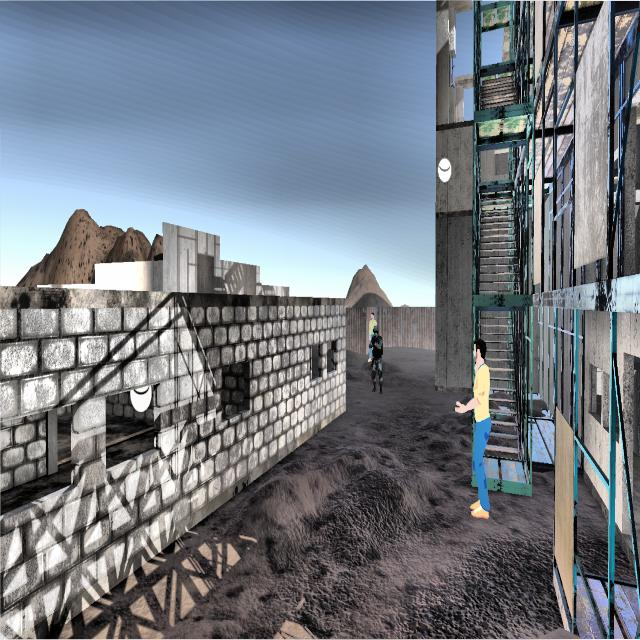bad: (368, 322, 387, 394)
good: (450, 325, 503, 528), (367, 306, 377, 334)
